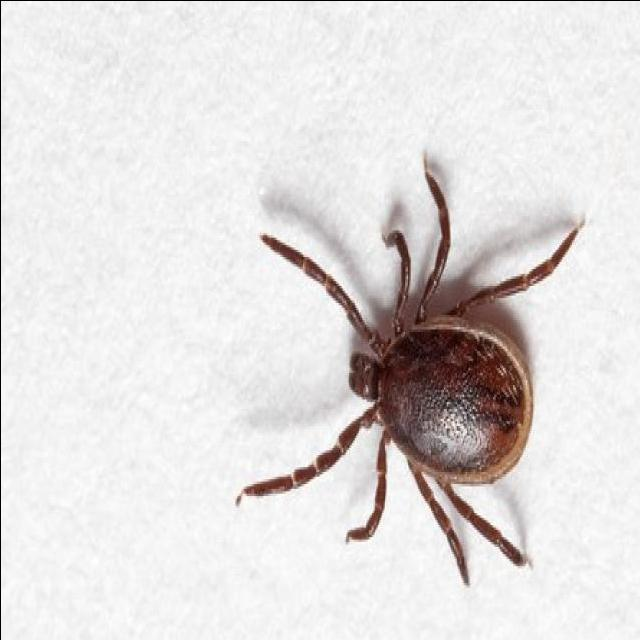Ixodes Ricinus-M: (237, 162, 585, 584)
